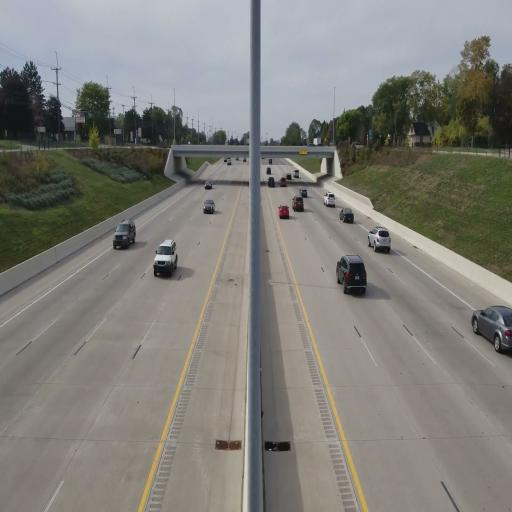Car: (470, 305, 512, 355), (336, 254, 367, 296), (153, 239, 178, 278), (113, 218, 136, 250), (368, 226, 390, 253), (340, 208, 354, 223), (293, 196, 304, 212), (278, 204, 290, 218), (203, 199, 215, 213), (324, 192, 336, 206), (299, 188, 308, 198)
